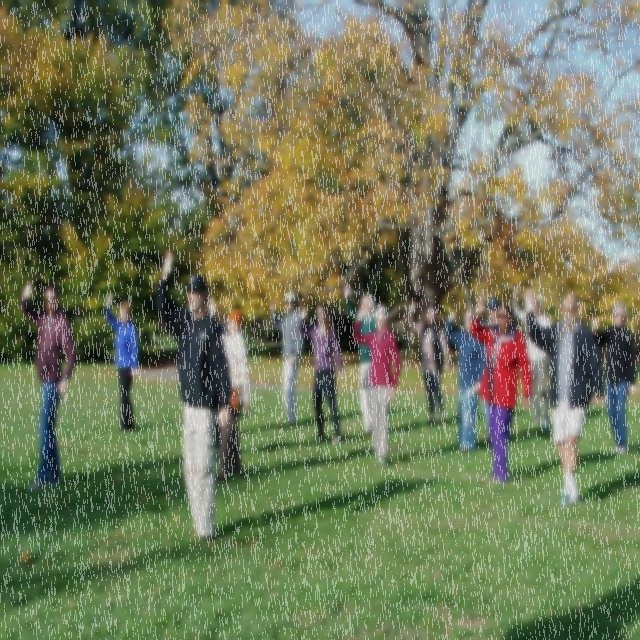pessoa: (154, 248, 233, 546), (522, 286, 606, 516), (19, 278, 78, 490), (470, 294, 532, 486), (223, 478, 422, 532), (588, 300, 640, 456), (354, 302, 402, 468), (297, 300, 345, 448), (444, 307, 489, 457), (214, 306, 250, 484), (512, 282, 554, 430), (472, 297, 510, 447), (342, 280, 378, 436), (408, 298, 449, 428), (269, 290, 305, 426), (105, 292, 138, 432), (582, 470, 640, 502), (213, 406, 221, 450), (220, 320, 228, 334)
